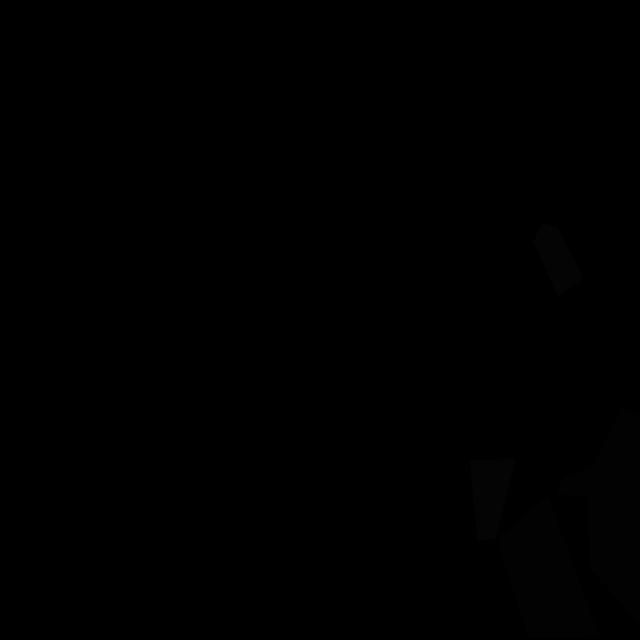cardboard: (558, 408, 640, 627), (496, 496, 600, 638)
soft_plastic: (470, 458, 516, 541), (534, 223, 581, 297)
